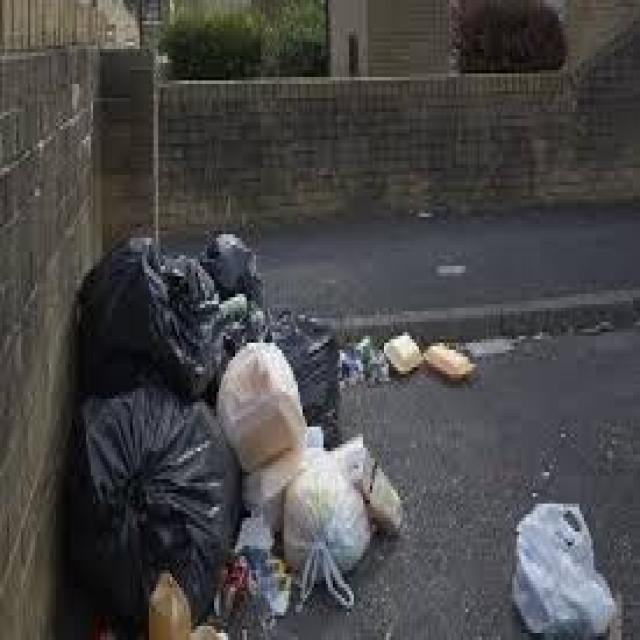garbage: (74, 231, 384, 640), (503, 500, 619, 640), (380, 311, 480, 385)
